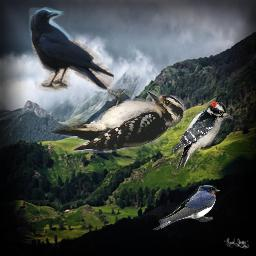Crow: (29, 6, 114, 93)
Swallow: (152, 185, 220, 232)
Woodpecker: (49, 89, 193, 156), (173, 102, 234, 172)
